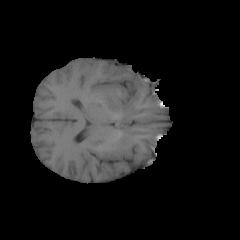glioma: (91, 67, 148, 132)
